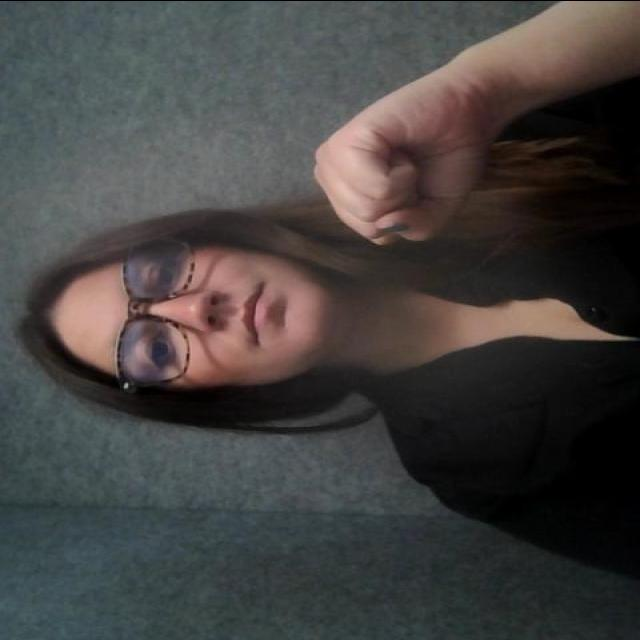Rock: (297, 74, 499, 256)
